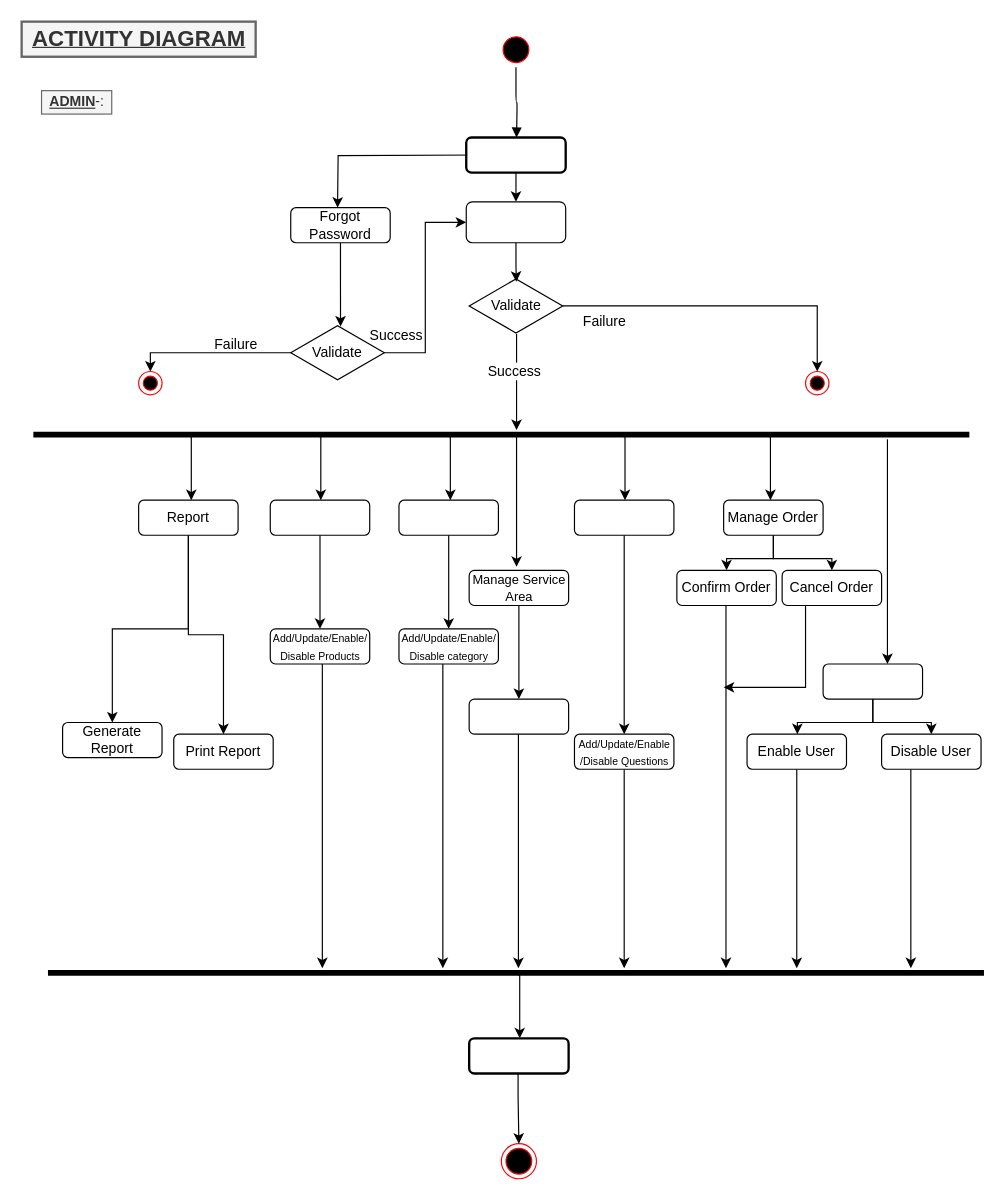
This 1006x1199 diagram has some shape labels left out. The box of each missing label's shape, as (x1, y1, x2, y2) in pixels:
Add/Enable /Disable Area: (468, 698, 569, 734)
Admin: (464, 136, 566, 173)
Log In: (465, 201, 566, 243)
Log out: (467, 1037, 569, 1074)
Manage Category: (398, 499, 498, 535)
Manage Product: (269, 499, 370, 535)
Manage S ecurity Questions: (573, 499, 674, 535)
Manage User: (822, 663, 923, 699)
